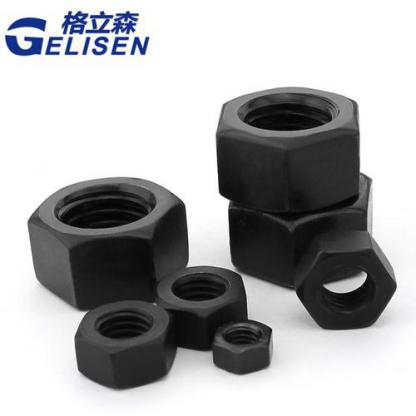FOD: (205, 82, 374, 209), (29, 175, 188, 308), (294, 225, 400, 333), (70, 298, 180, 388), (158, 262, 246, 350), (208, 315, 276, 378)
